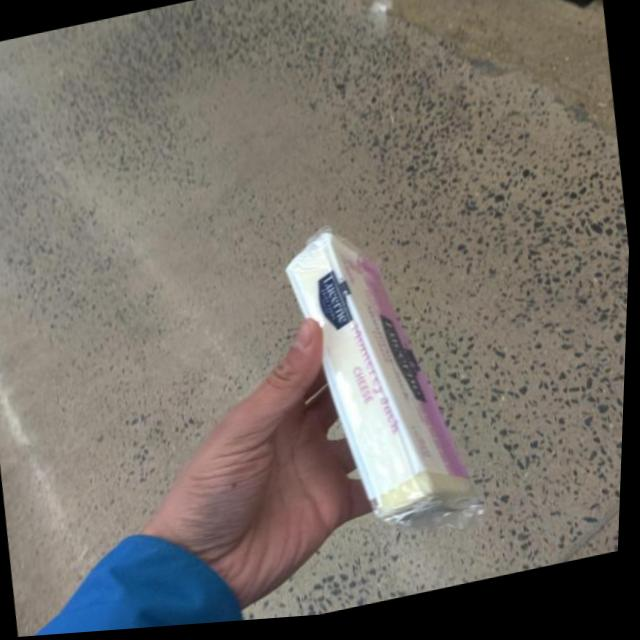Cheese: (284, 211, 496, 561)
